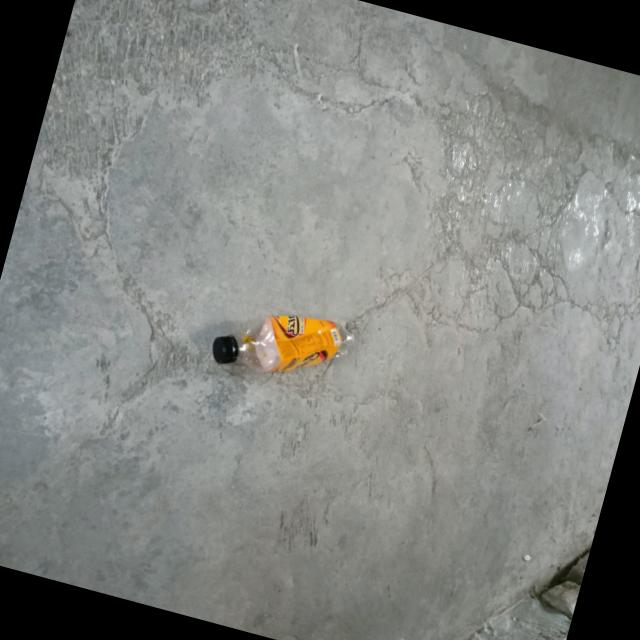Bottle: (212, 314, 353, 370)
